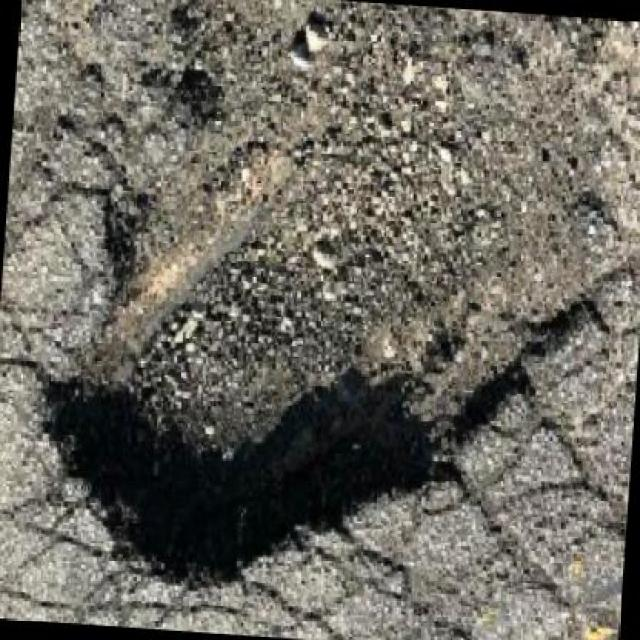pothole1: (21, 0, 638, 623)
